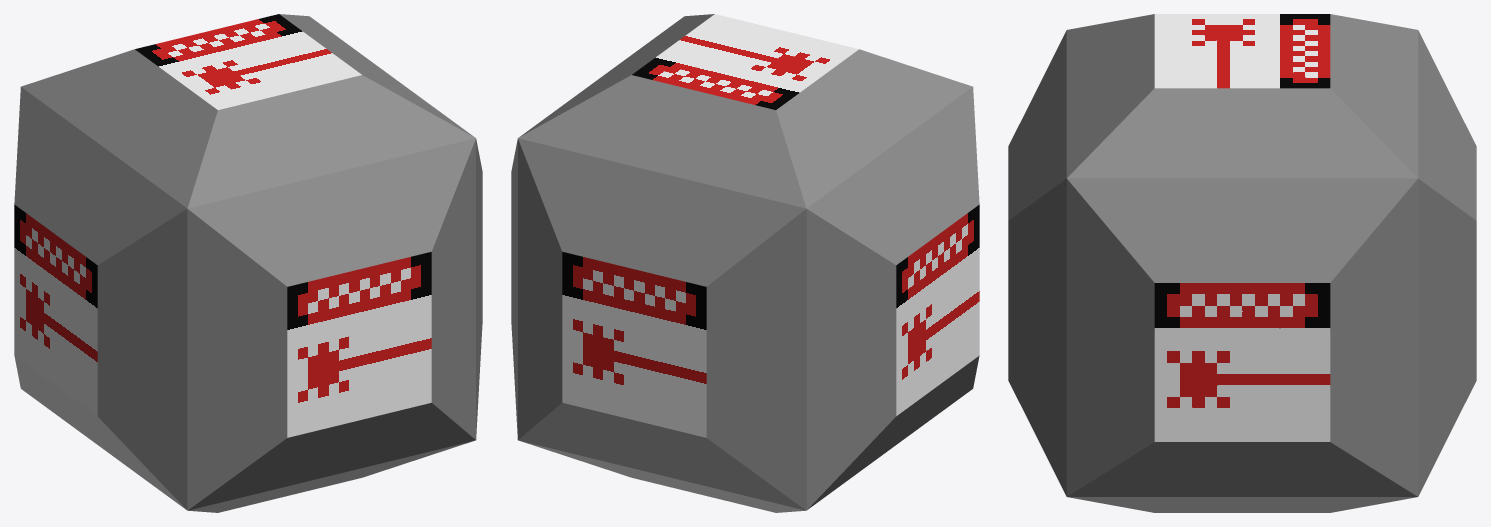
The model's file is optical_cannon_item.gltf.
3 renders of one model, left to right at view 1: azimuth 30°, elevation 25°; view 2: azimuth 150°, elevation 25°; view 3: azimuth 270°, elevation 25°, orthographic. The views are drawn at different scales.
Visible parts, largest first — view 1: cuboid; view 2: cuboid; view 3: cuboid.
Part boxes in pixels (<box>): cuboid: <box>14,14,482,512</box>; cuboid: <box>511,14,979,512</box>; cuboid: <box>1008,14,1476,512</box>.
Size of the model in its own units: 0.5 by 0.5 by 0.5.
1 material, 1 textured.
